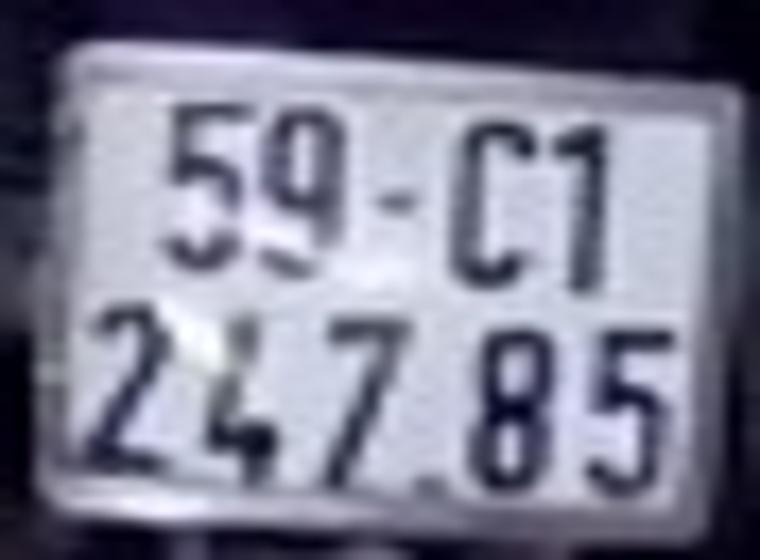-: (377, 184, 419, 215)
.: (414, 456, 450, 507)
1: (551, 117, 607, 301)
2: (79, 296, 175, 488)
4: (208, 309, 282, 497)
5: (578, 324, 678, 508), (158, 99, 256, 280)
7: (313, 317, 414, 485)
8: (470, 318, 552, 494)
9: (261, 104, 342, 279)
C: (446, 114, 538, 283)
